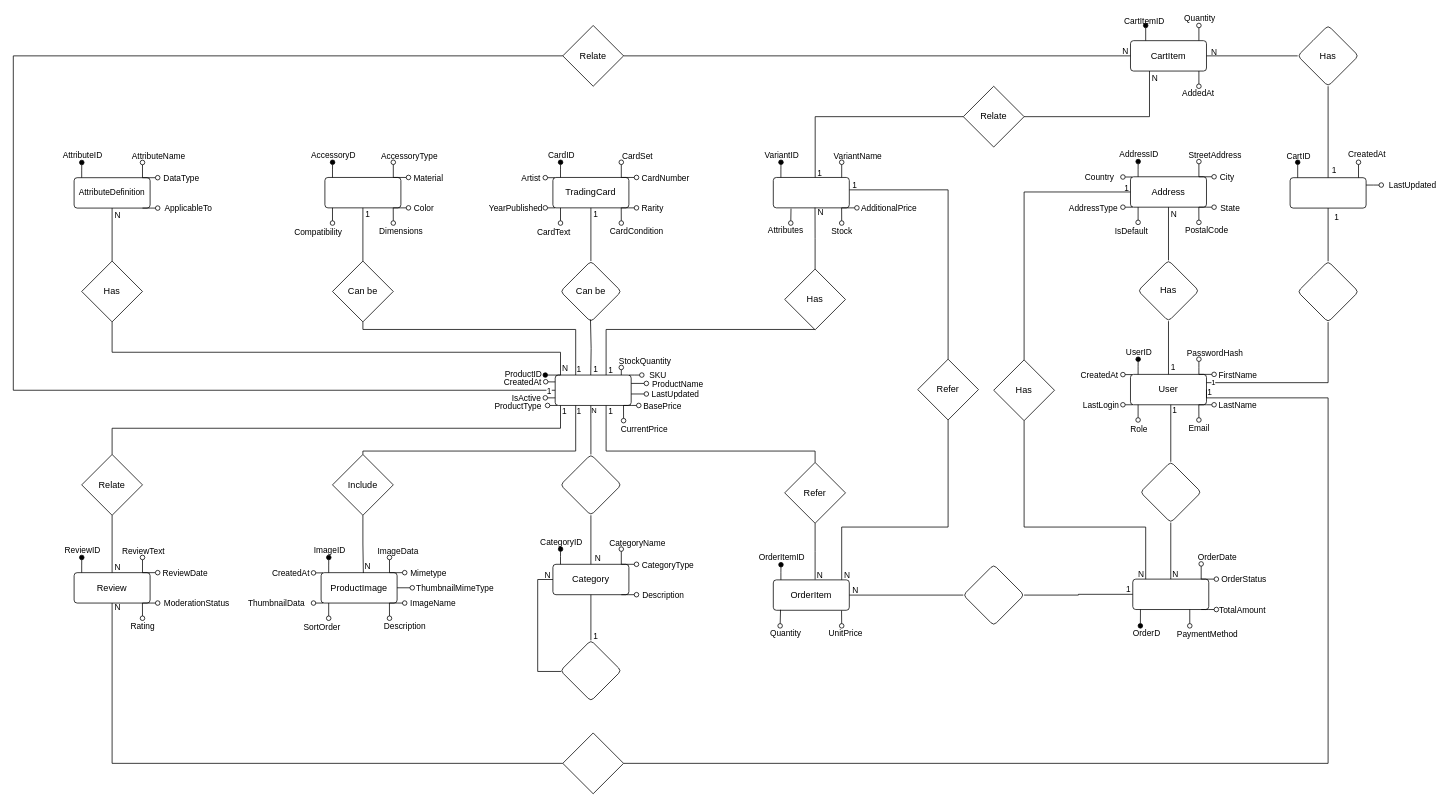
Image size: 1449x807. Some labels were removed from this diagram. The centre of each missing label's shape, as x and y in pixels:
Accessory: the point at 362,192
Belong: the point at 590,484
Cart: the point at 1327,192
Contain: the point at 993,594
Make: the point at 1170,492
Order: the point at 1170,594
Owns: the point at 1327,291
ParentCategory: the point at 590,670
Product: the point at 592,389
ProductVariant: the point at 811,192
Provide: the point at 593,763
